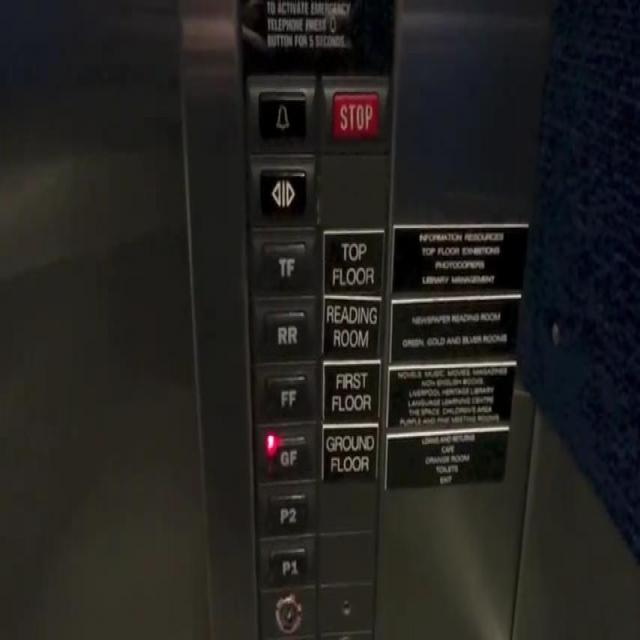FF: (250, 359, 321, 420)
GF: (252, 418, 320, 482)
P1: (255, 532, 318, 589)
P2: (253, 477, 320, 536)
RR: (247, 288, 321, 363)
TF: (245, 225, 320, 296)
alarm: (245, 72, 319, 152)
bt_keyhole: (257, 584, 318, 639)
open: (246, 152, 318, 225)
text_stop: (318, 74, 392, 154)
